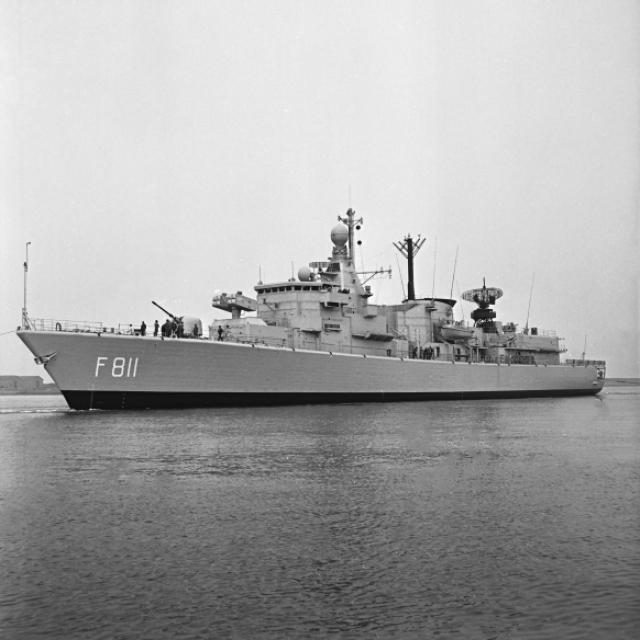Fragata: (15, 161, 613, 416)
